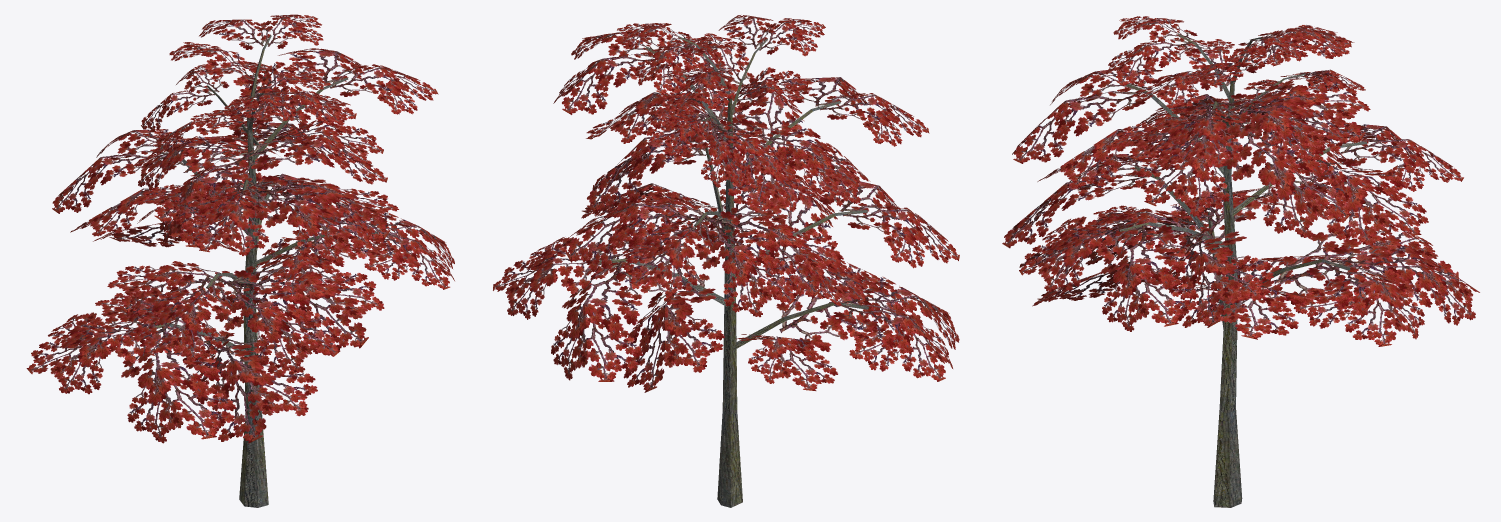
Rendered from flora_tree_maple_autumn_v3.glb.
The picture shows the model from 3 angles, left to right: view 1: azimuth 30°, elevation 25°; view 2: azimuth 150°, elevation 25°; view 3: azimuth 270°, elevation 25°; orthographic projection. The views are drawn at different scales.
Visible parts, largest first — view 1: flora_tree_maple_autumn_v3_part0; view 2: flora_tree_maple_autumn_v3_part0; view 3: flora_tree_maple_autumn_v3_part0.
Boxes of the visible parts, box(x1,y1,x2,y2) form: flora_tree_maple_autumn_v3_part0: box(26, 14, 454, 507); flora_tree_maple_autumn_v3_part0: box(493, 15, 959, 507); flora_tree_maple_autumn_v3_part0: box(1002, 16, 1479, 507).
Bounding box in the file's own units: 15.07 × 17.05 × 15.41.
Materials: 1 (1 with a texture image).
